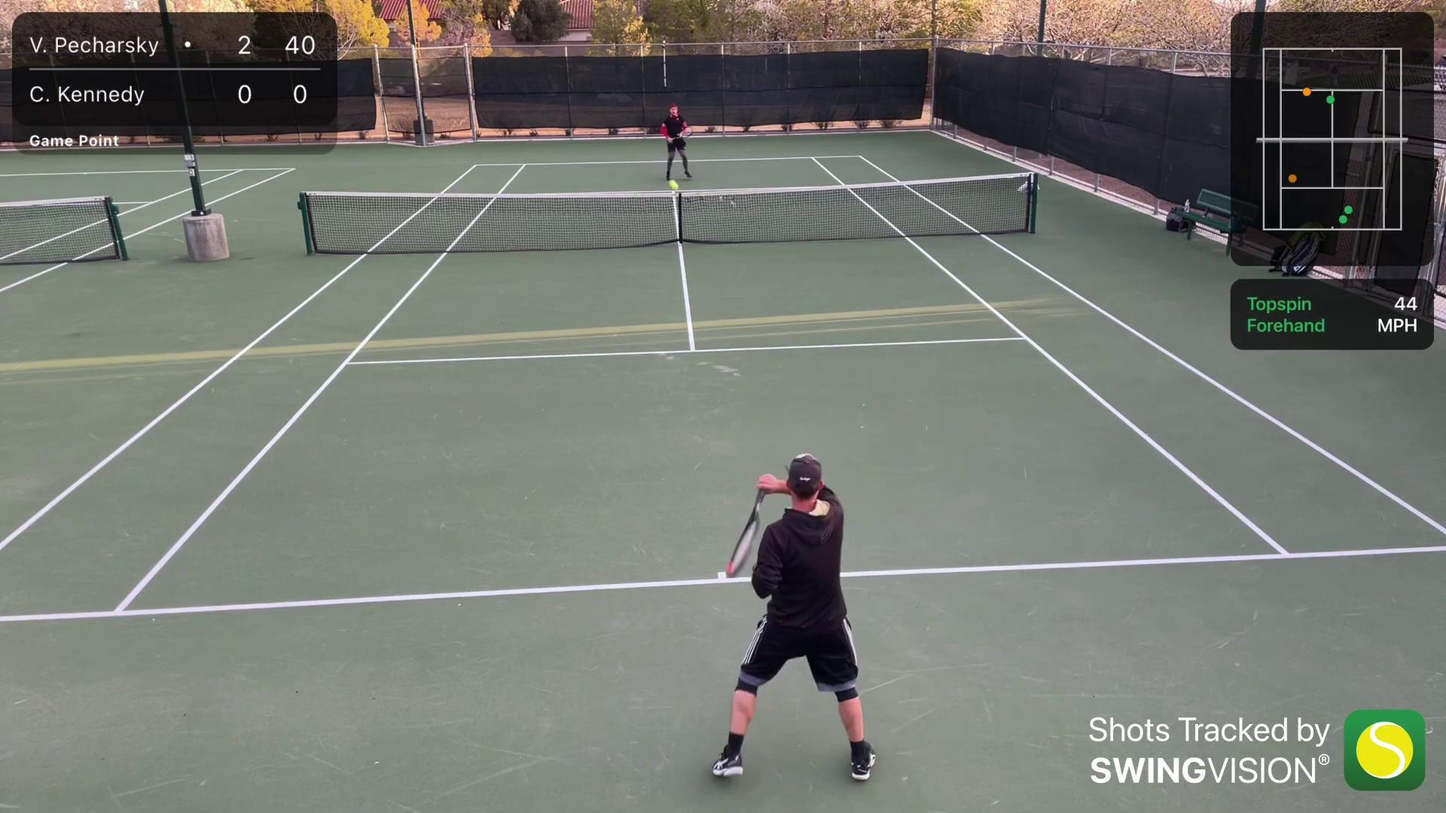ball: (667, 178, 683, 193)
